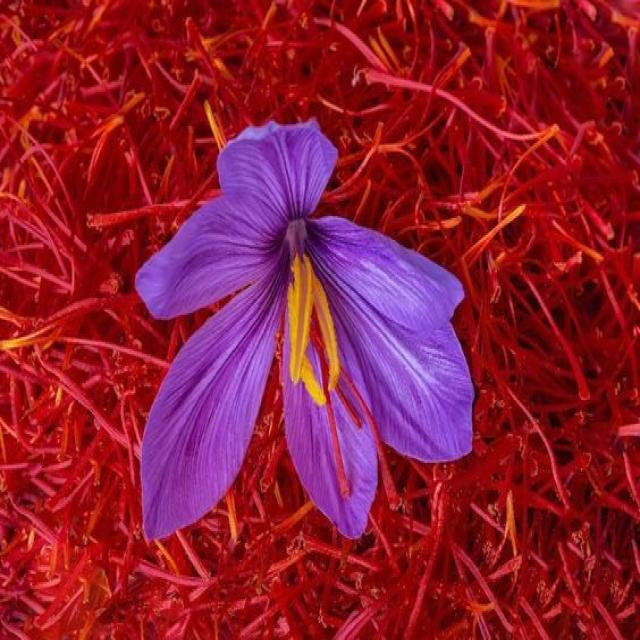Flower: (136, 122, 474, 539)
stigma: (312, 330, 402, 516), (316, 338, 357, 504), (334, 384, 367, 430)
